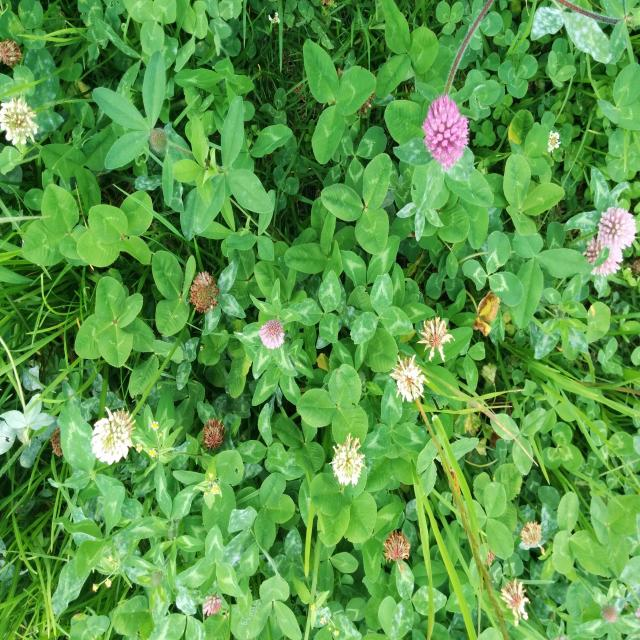Four Leaf Clover: (264, 93, 330, 191)
